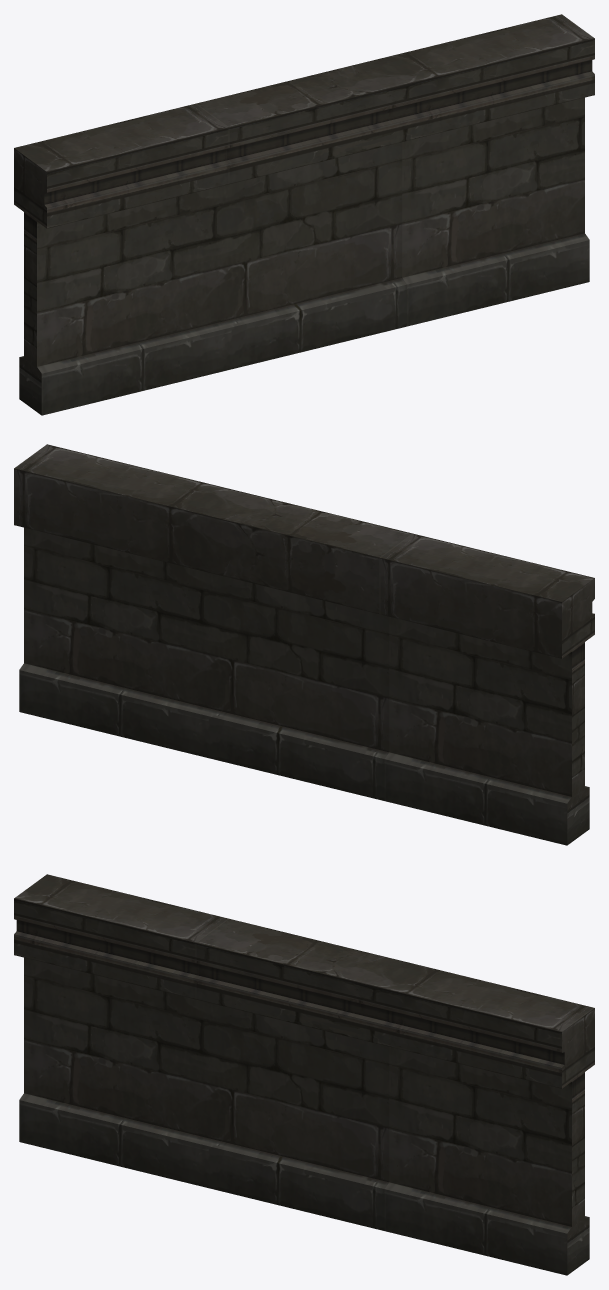
The model's file is sewer_wall007.FBX.
3 views of the same model, one above another, from view 1: azimuth 30°, elevation 25°; view 2: azimuth 150°, elevation 25°; view 3: azimuth 330°, elevation 25° (orthographic).
Parts seen in each view (by area): view 1: sewer_wall007; view 2: sewer_wall007; view 3: sewer_wall007.
Boxes of the visible parts, bbox=[...] form: sewer_wall007: bbox=[14, 14, 594, 415]; sewer_wall007: bbox=[14, 444, 594, 845]; sewer_wall007: bbox=[14, 874, 594, 1275].
Bounding box in the file's own units: 996 × 430 × 104.
